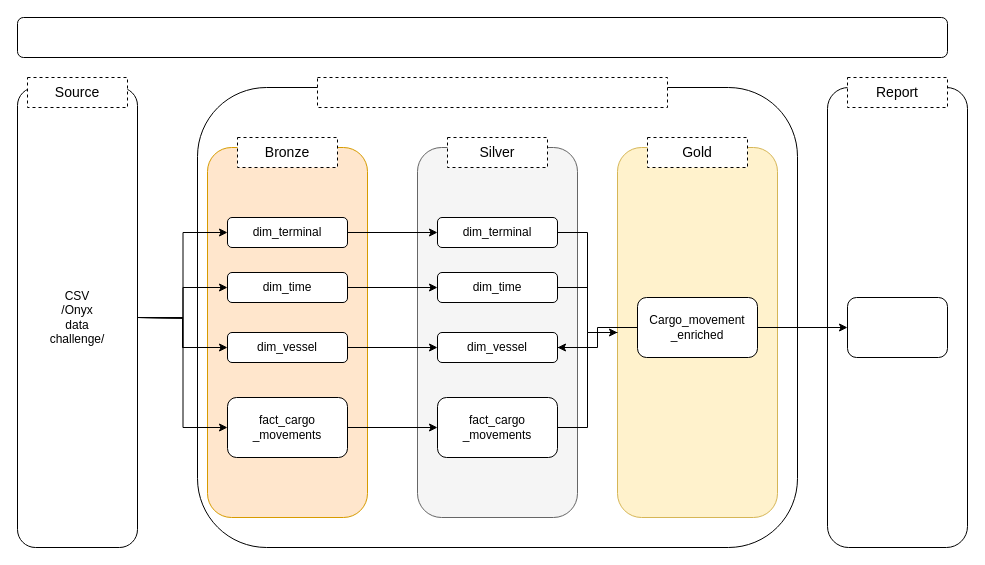
This 985x565 diagram has some shape labels left out. Here are the shapes that lost their labels. From the top down, the box of each, then its label:
(16, 16, 948, 58): DATA FLOW
(316, 76, 668, 108): Data warehouse
(846, 296, 948, 358): General report Yearly report Terminal report Suez Canal report
